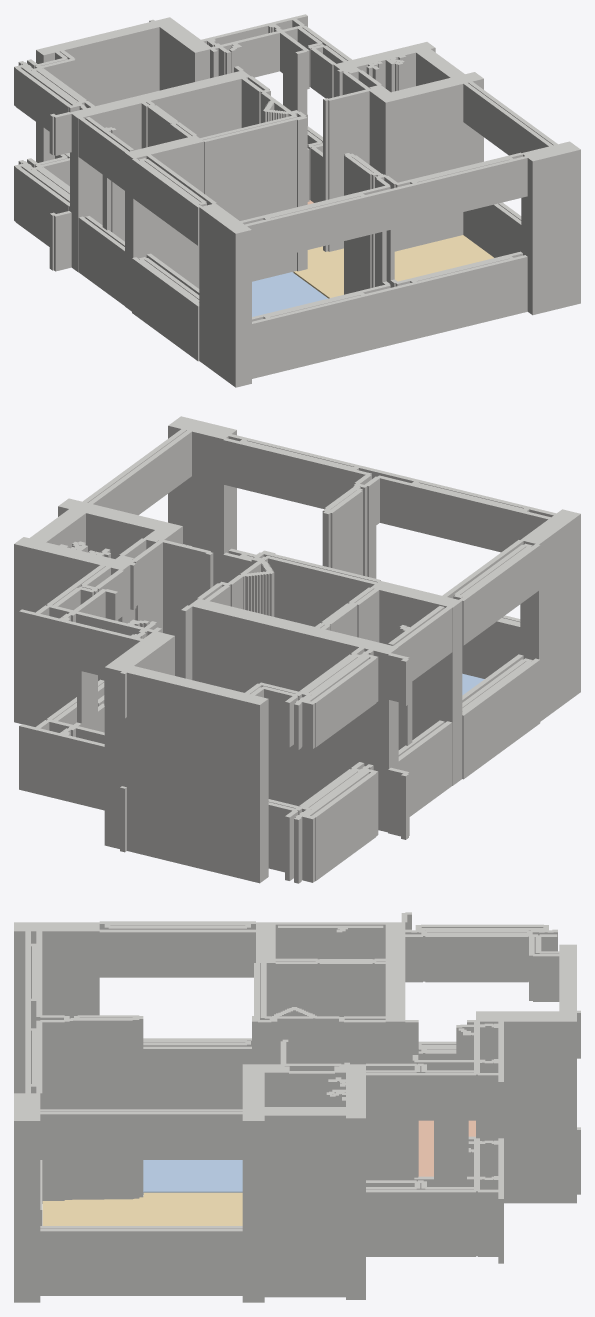
3 views of the same model, one above another, from view 1: azimuth 30°, elevation 25°; view 2: azimuth 150°, elevation 25°; view 3: azimuth 270°, elevation 25° (orthographic). The views are drawn at different scales.
Parts seen in each view (by area): view 1: walls, room:living:6, room:bedroom:5; view 2: walls; view 3: walls, room:living:6, room:bedroom:5, room:kitchen:0.
Part boxes in pixels (x1,y1,x2,y2): walls: [14, 14, 580, 387]; room:living:6: [293, 235, 493, 298]; room:bedroom:5: [252, 272, 327, 316]; walls: [14, 416, 580, 883]; walls: [14, 912, 580, 1302]; room:living:6: [42, 1192, 242, 1225]; room:bedroom:5: [143, 1160, 242, 1194]; room:kitchen:0: [418, 1120, 475, 1176].
Bounding box in the file's own units: 6.9 × 2.8 × 7.92.
